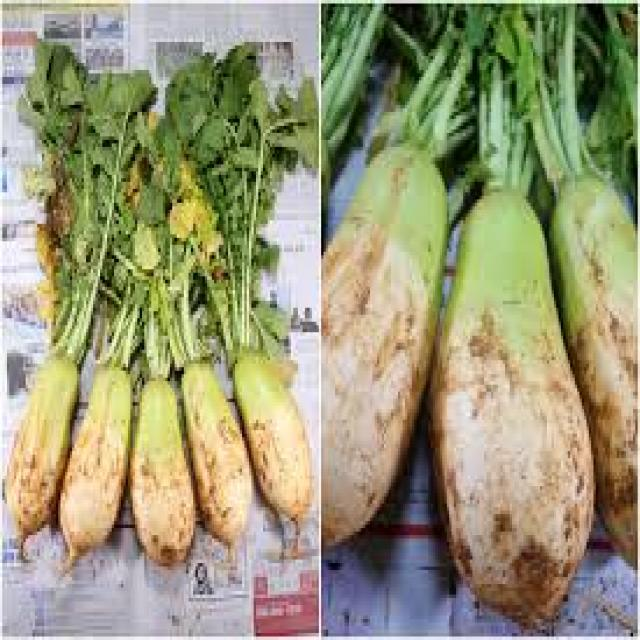Radish: (433, 191, 596, 623), (61, 367, 133, 558), (5, 357, 79, 542), (182, 364, 254, 546), (235, 353, 312, 521), (130, 381, 195, 567)
